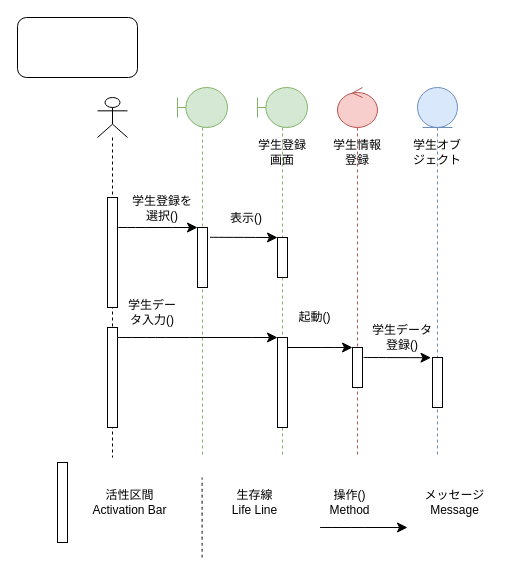
The diagram is 525 pixels wide and 576 high, and some of its shapes have lost their labels. Each missing label, with the box of its shape:
sequence: (16, 16, 138, 78)
メニュー画面: (176, 86, 228, 458)
